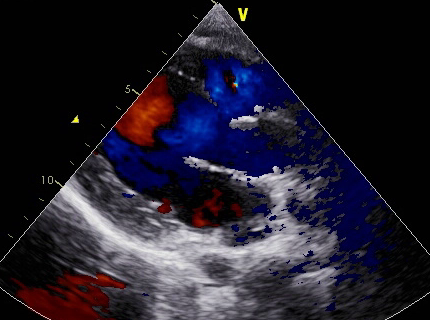MR: (149, 150, 199, 217)
